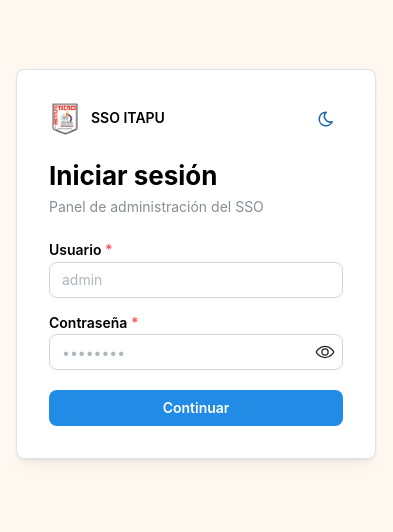
Test: LoginPage › debería validar longitud mínima de usuario y contraseña en paso 1
In the field labelled "Usuario *": x=196, y=280 [49,262,343,298], type "ab"
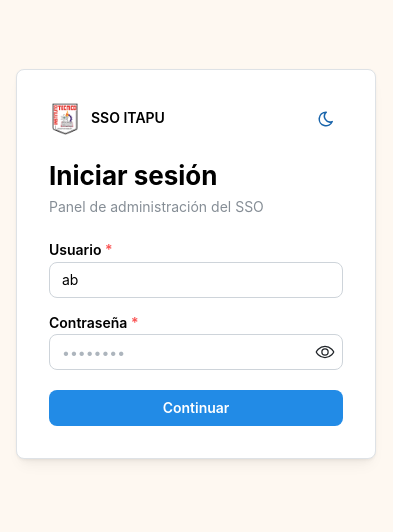
In the password field labelled "Contraseña *": x=196, y=352 [50,336,342,370], type "12345678"
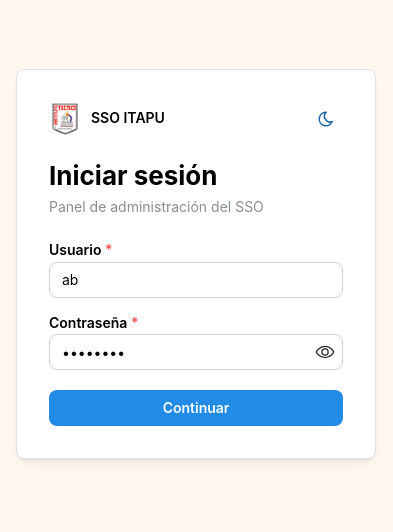
Click the button "Continuar": x=196, y=408 [49,390,343,426]
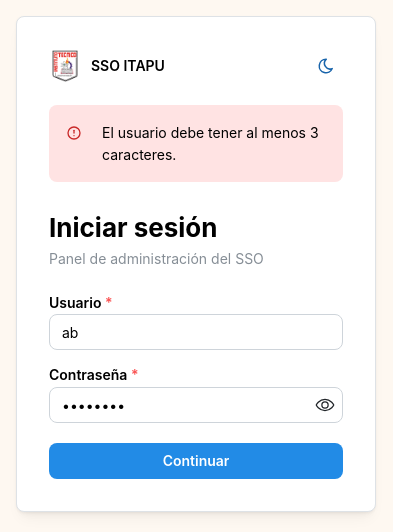
Now the text "El usuario debe tener al menos 3 caracteres." is shown, box [102,122,326,165]
Replace the text in the field labelled "Usuario *" with "admin": x=196, y=332 [49,314,343,350]
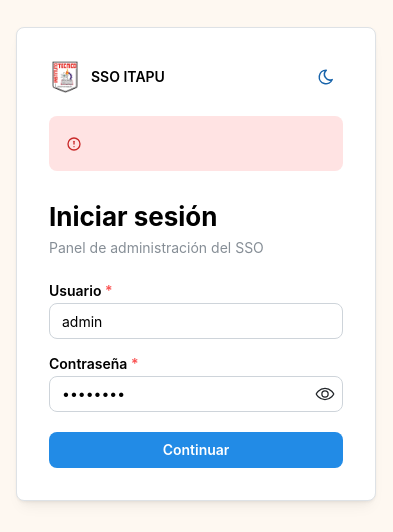
In the password field labelled "Contraseña *": x=196, y=394 [50,377,342,411], type "123"
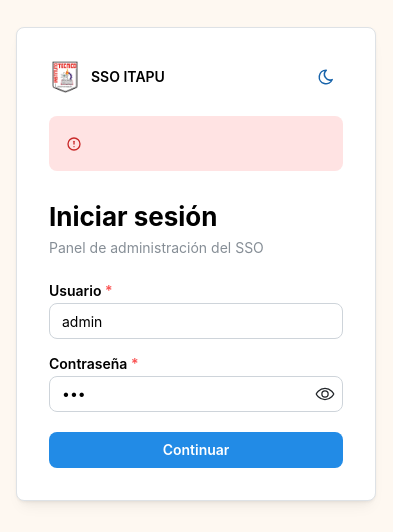
Click the button "Continuar": x=196, y=450 [49,432,343,468]
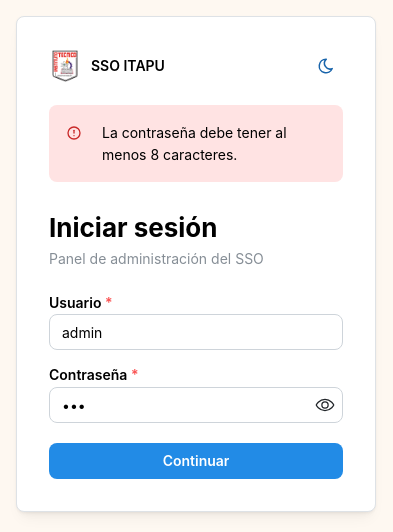
Now the text "La contraseña debe tener al menos 8 caracteres." is shown, box [102,124,287,162]
